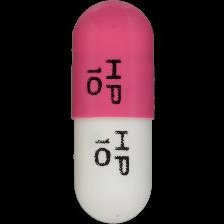63629-1780: (0, 0, 224, 224)
